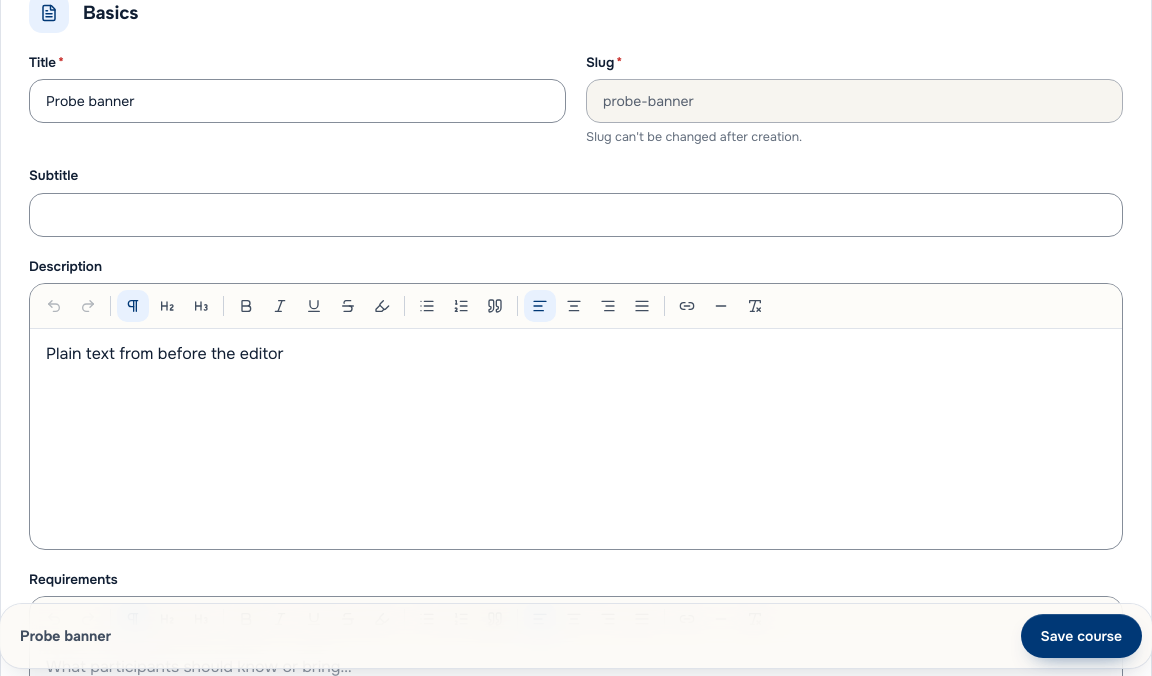
Scenario: CourseDetailsForm › refuses a one-time course without its times, and says where
Click the button "Save course".
click(1081, 636)  # box [1020,614,1142,658]
(page scrolled)
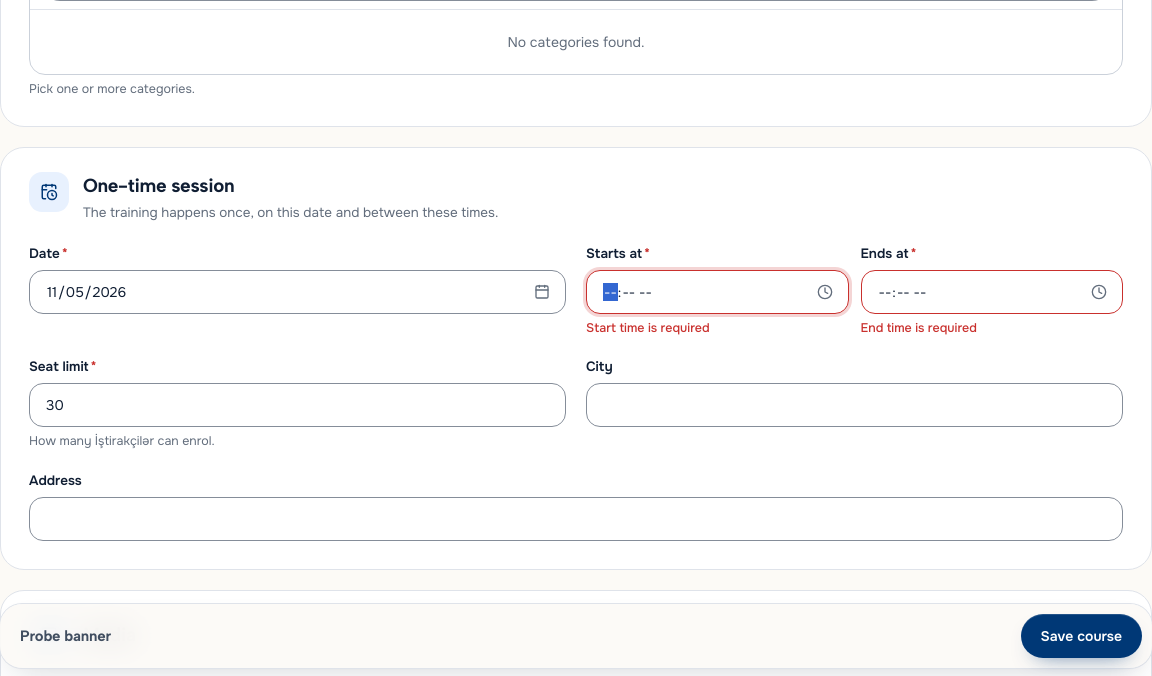
Check: the text "Start time is required" is shown, box [586,320,710,336]
Check: the text "End time is required" is shown, box [860,320,977,336]
